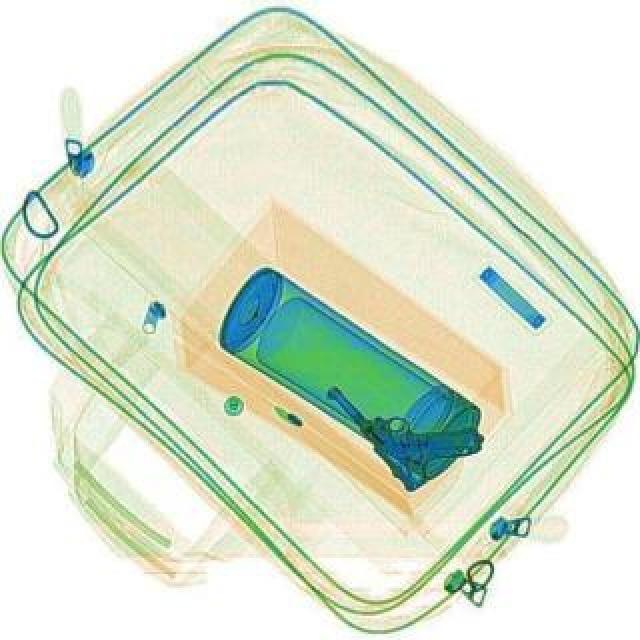gun: (320, 336, 490, 498)
